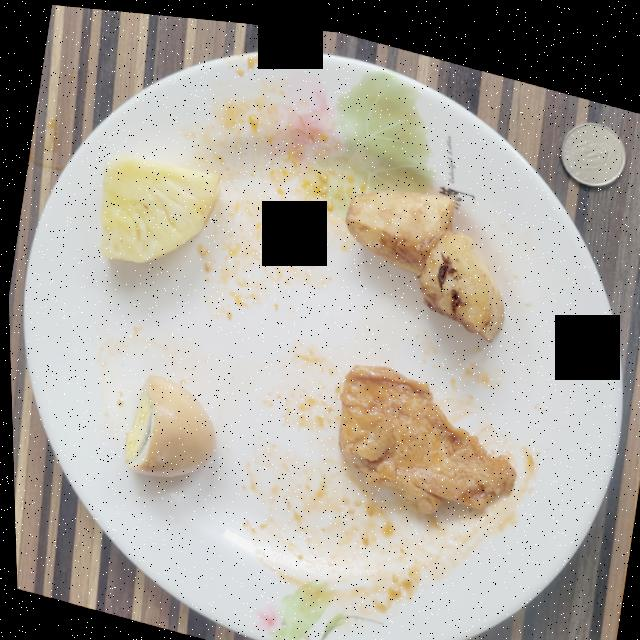coin: (560, 109, 625, 173)
creamy tofu: (336, 356, 513, 506)
fried potato: (344, 181, 502, 331)
pineapple: (98, 150, 218, 259)
soy egg: (121, 371, 213, 473)
